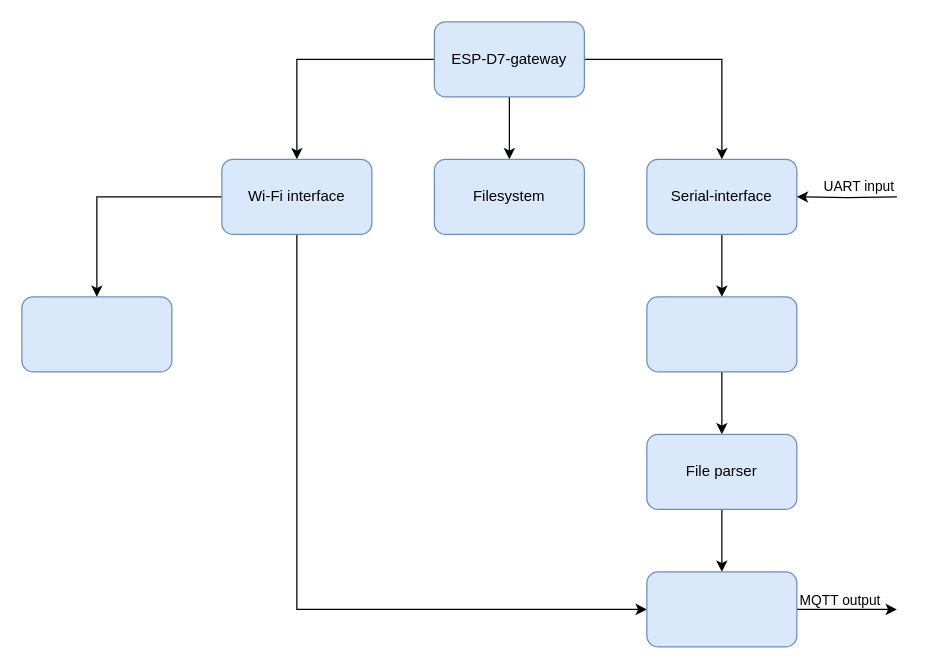
Some shapes in this 944 by 669 pixel diagram are drawn without their labels. Here are the shapes that lost their labels. From the top down, the centre of each, then its label:
At point 96,334: "D7 webserver".
At point 721,334: "ALP parser".
At point 721,609: "MQTT interface".
